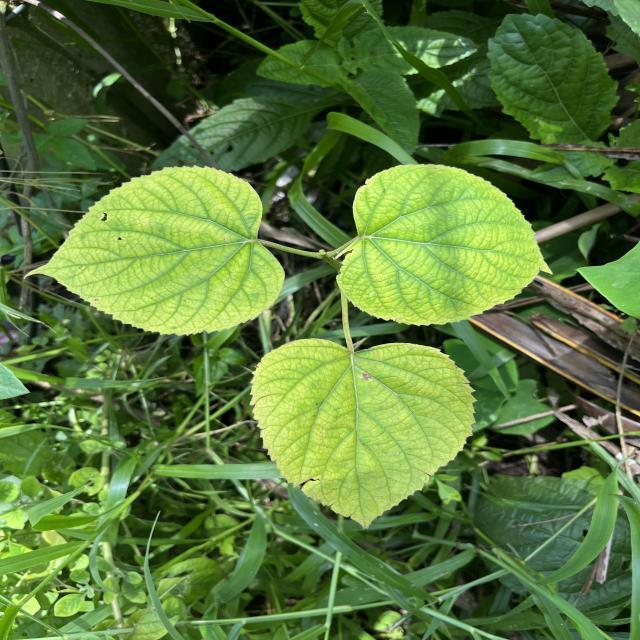Clerodendrum infortunatum: (21, 162, 287, 338), (248, 337, 480, 531), (333, 162, 554, 328)
